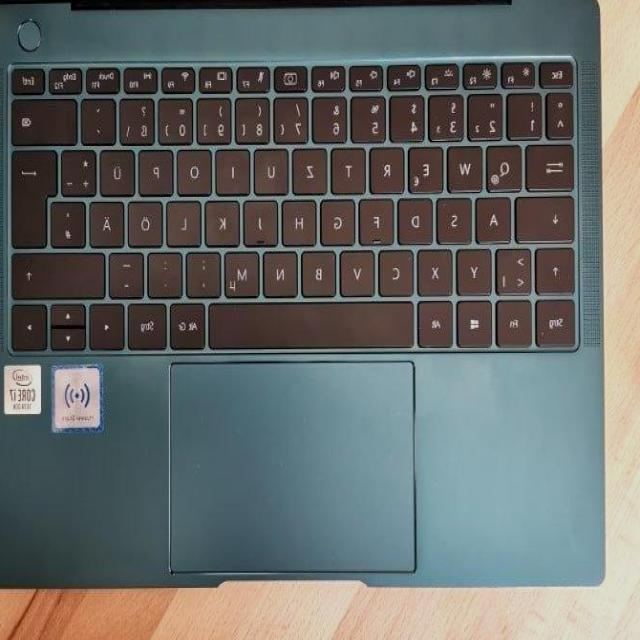0: (160, 93, 196, 143)
1: (510, 88, 546, 136)
2: (470, 89, 506, 137)
3: (431, 91, 467, 139)
4: (393, 91, 429, 139)
5: (354, 92, 390, 140)
6: (315, 92, 351, 140)
7: (276, 93, 312, 141)
8: (238, 93, 274, 141)
9: (200, 93, 236, 141)
a: (477, 192, 515, 240)
accent: (83, 94, 119, 142)
ae: (91, 197, 127, 245)
alt-left: (419, 297, 457, 344)
altgr-right: (172, 299, 208, 347)
b: (303, 247, 339, 295)
c: (381, 245, 417, 293)
caret: (549, 88, 577, 136)
comma: (189, 247, 225, 295)
d: (400, 193, 436, 243)
del: (13, 94, 80, 142)
e: (410, 143, 446, 191)
enter: (13, 145, 61, 245)
f: (361, 193, 397, 241)
g: (322, 195, 358, 243)
h: (284, 195, 320, 243)
hash: (53, 197, 89, 244)
i: (217, 145, 253, 192)
j: (245, 196, 281, 244)
k: (207, 196, 243, 244)
keyboard: (1, 50, 587, 360)
l: (168, 196, 204, 244)
less: (498, 243, 536, 293)
m: (225, 246, 263, 296)
minus: (111, 248, 147, 295)
n: (265, 247, 301, 295)
o: (179, 145, 215, 193)
oe: (130, 197, 166, 245)
p: (140, 145, 176, 193)
plus: (63, 145, 99, 193)
point: (149, 248, 185, 295)
q: (488, 140, 526, 190)
r: (372, 142, 408, 192)
s: (439, 193, 475, 241)
shift-left: (538, 243, 579, 293)
shift-lock: (518, 191, 578, 239)
shift-right: (14, 246, 108, 296)
space: (210, 296, 418, 346)
ss: (122, 94, 158, 142)
strg-left: (537, 293, 581, 344)
strg-right: (129, 299, 170, 347)
t: (333, 142, 369, 192)
tab: (529, 138, 577, 188)
u: (255, 144, 291, 194)
ue: (102, 145, 138, 193)
v: (341, 245, 377, 293)
w: (449, 140, 485, 190)
x: (419, 244, 455, 292)
y: (459, 244, 495, 292)
z: (294, 144, 330, 192)
